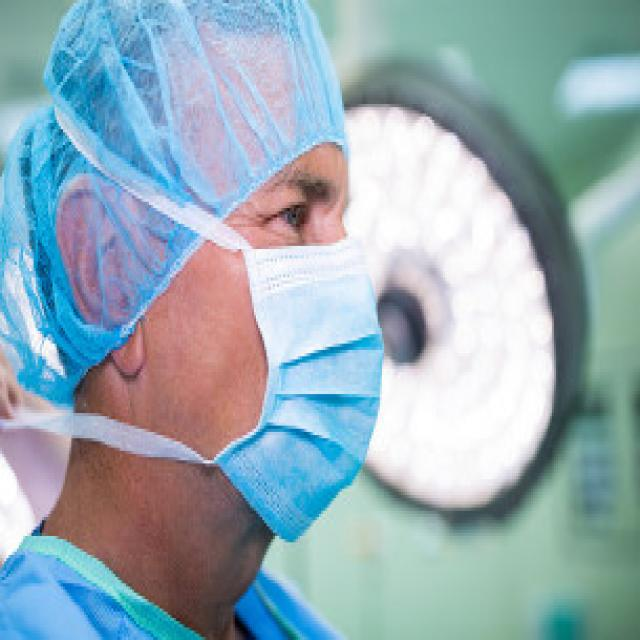mask: (143, 68, 382, 538)
